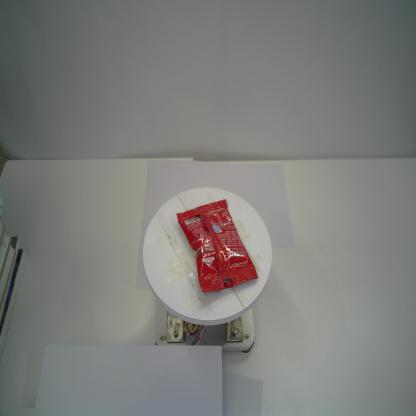Instant Drink: (176, 197, 260, 297)
